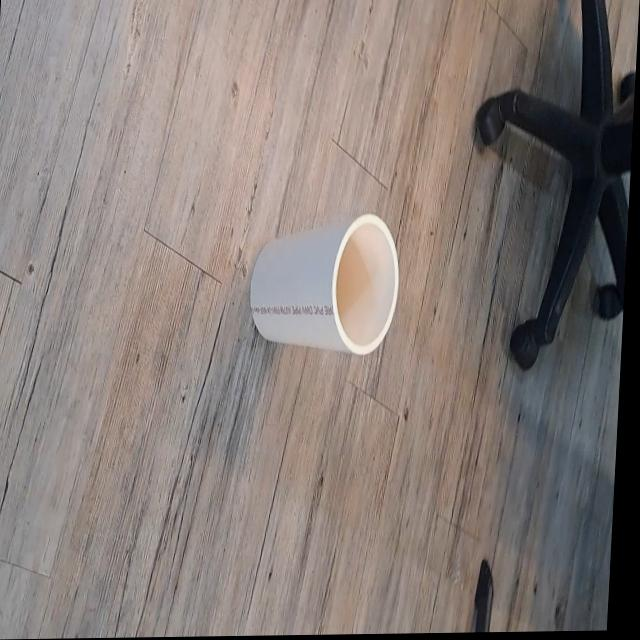CORAL: (243, 205, 407, 367)
